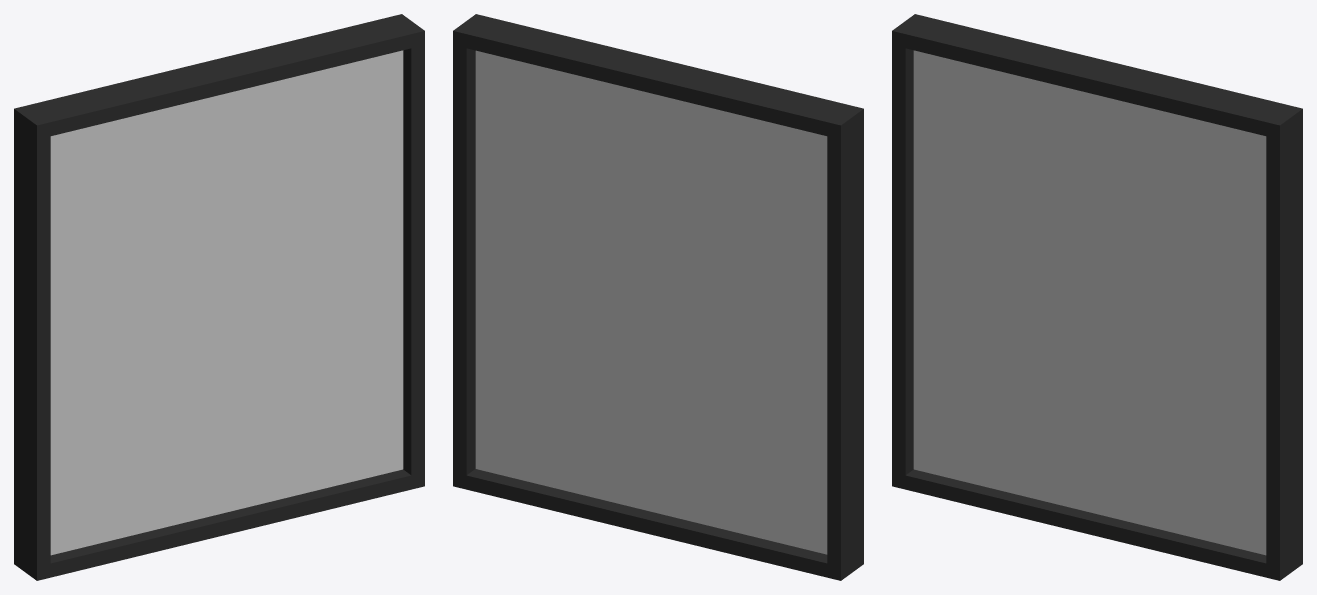
The model's file is SM_Env_GlassWall.fbx.
The picture shows the model from 3 angles, left to right: view 1: azimuth 30°, elevation 25°; view 2: azimuth 150°, elevation 25°; view 3: azimuth 330°, elevation 25°; orthographic projection.
Parts seen in each view (by area): view 1: SM_GlassWall; view 2: SM_GlassWall; view 3: SM_GlassWall.
Part boxes in pixels (x1,y1,x2,y2): SM_GlassWall: (14,14,424,580); SM_GlassWall: (453,14,863,580); SM_GlassWall: (892,14,1302,580).
Size of the model in its own units: 2 by 2.24 by 0.2056.
